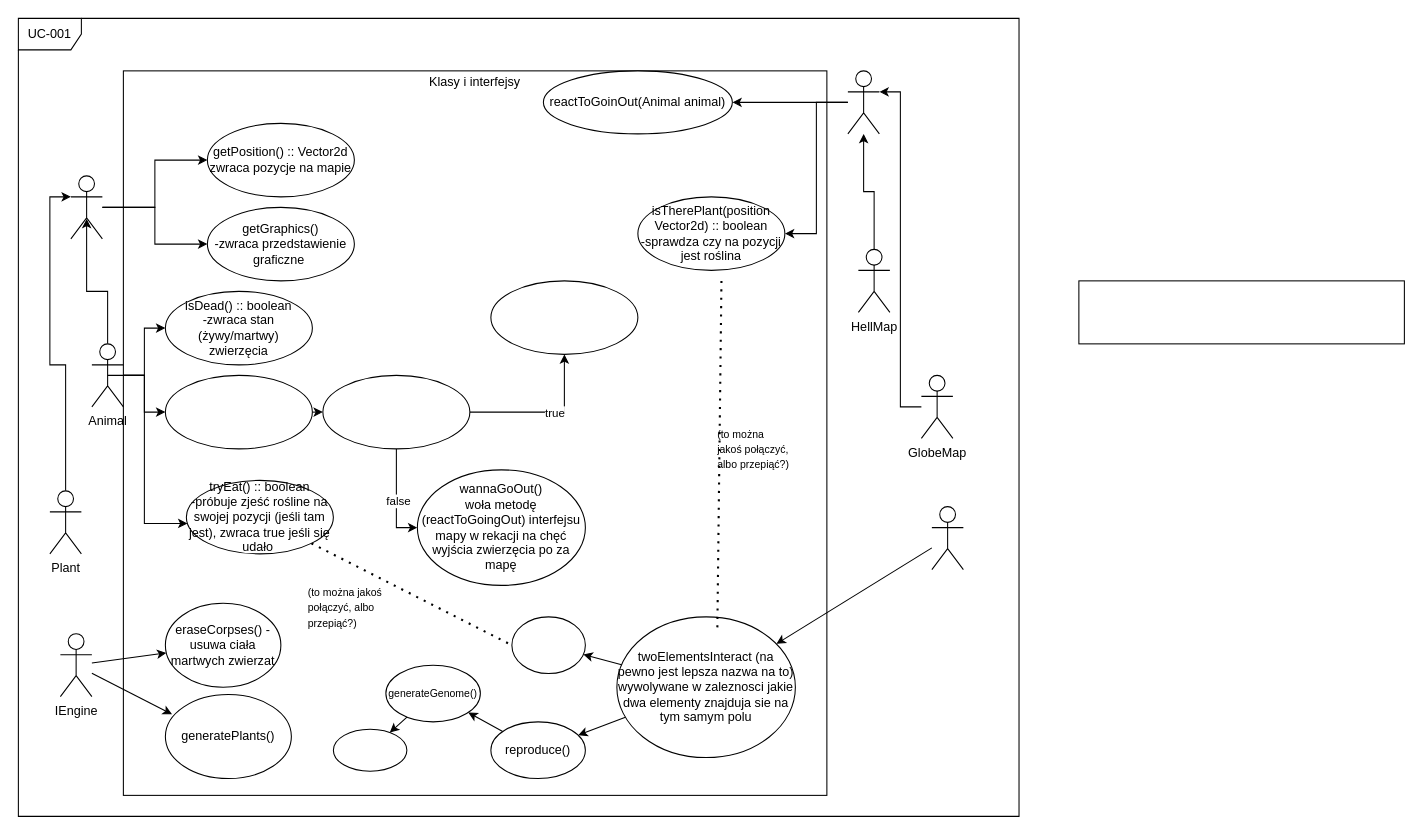
The diagram is 1423 pixels wide and 835 high, and some of its shapes have lost their labels. The shapes that lost their labels are listed below. From the top down, each one's centre as x and y in pixels, then its label:
At point (863, 102): "IMap".
At point (86, 207): "IMapElement".
At point (564, 317): "move() -porusza zwierzaka do przodu w kierunku w którym patrzy".
At point (1241, 312): "IMap -animals :: TreeSet<Animal> (sorted by energy)".
At point (238, 411): "rotate(int direction) -obraca zwierze".
At point (396, 411): "canMove() :: boolean -sprawdza czy zwierze nie wyjdzie po za mapę".
At point (947, 538): "IMapTile".
At point (548, 645): "eat()".
At point (369, 749): "mutate()".
